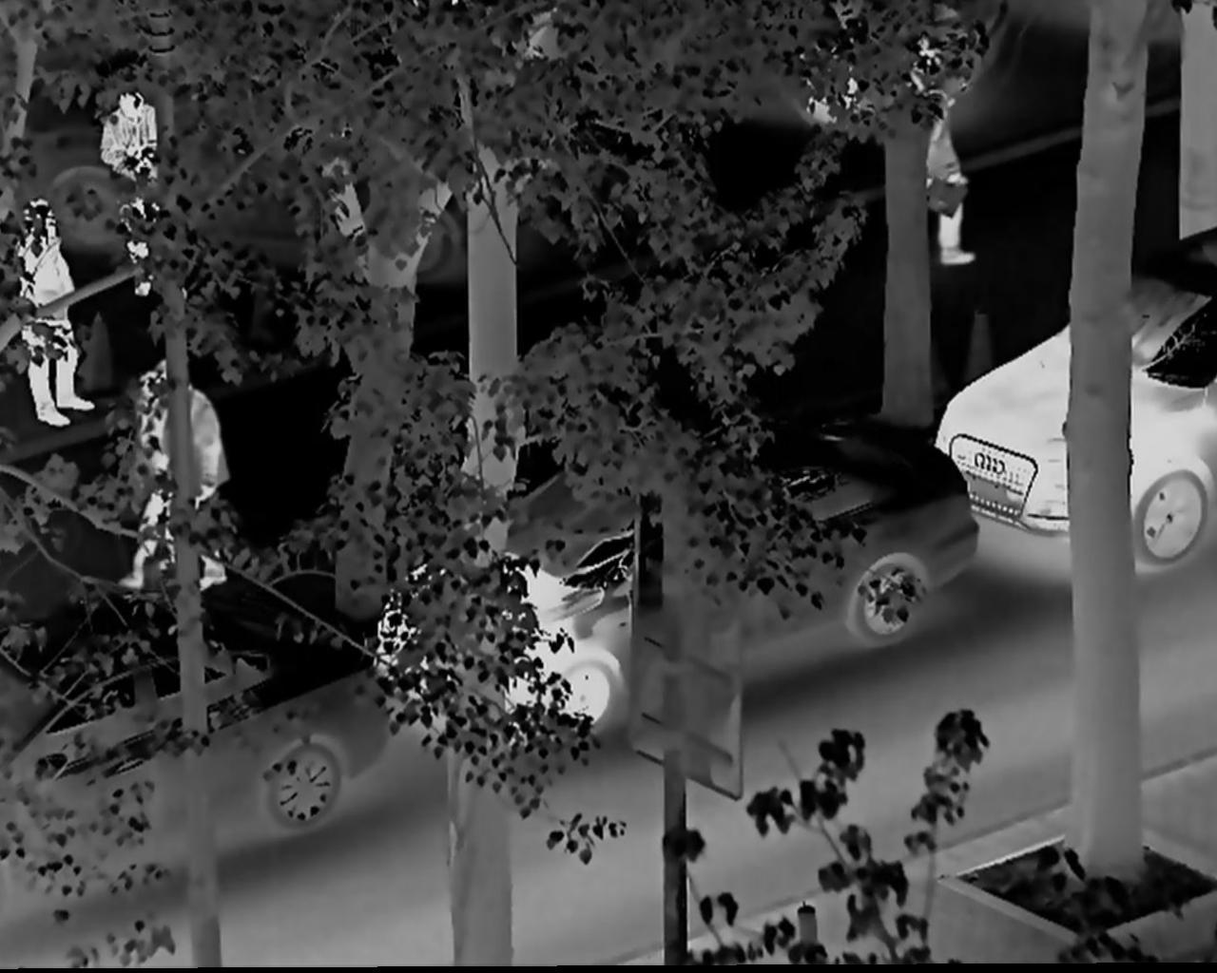person: (126, 355, 222, 602), (10, 199, 96, 430), (100, 90, 180, 306), (909, 58, 981, 263)
